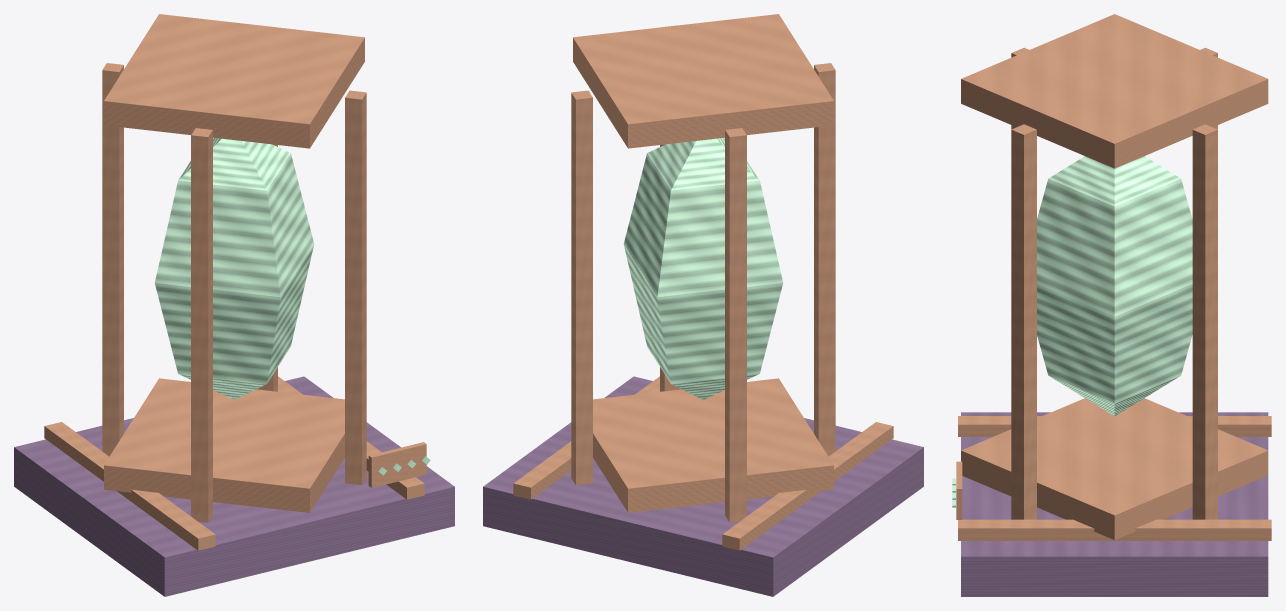
Rendered from atlas100-s083-a01.glb.
3 renders of one model, left to right at view 1: azimuth 30°, elevation 25°; view 2: azimuth 150°, elevation 25°; view 3: azimuth 270°, elevation 25°, orthographic.
Visible parts, largest first — view 1: atlas100-s083-a01:part-000, atlas100-s083-a01:part-013, atlas100-s083-a01:part-004, atlas100-s083-a01:part-003, atlas100-s083-a01:part-005, atlas100-s083-a01:part-007, atlas100-s083-a01:part-009, atlas100-s083-a01:part-001, atlas100-s083-a01:part-014, atlas100-s083-a01:part-002; view 2: atlas100-s083-a01:part-000, atlas100-s083-a01:part-013, atlas100-s083-a01:part-004, atlas100-s083-a01:part-003, atlas100-s083-a01:part-011, atlas100-s083-a01:part-009, atlas100-s083-a01:part-007, atlas100-s083-a01:part-001, atlas100-s083-a01:part-002; view 3: atlas100-s083-a01:part-013, atlas100-s083-a01:part-004, atlas100-s083-a01:part-003, atlas100-s083-a01:part-000, atlas100-s083-a01:part-005, atlas100-s083-a01:part-011, atlas100-s083-a01:part-002, atlas100-s083-a01:part-001.
Part boxes in pixels (left/top/right/bottom): atlas100-s083-a01:part-000: left=14, top=376, right=454, bottom=596; atlas100-s083-a01:part-013: left=154, top=137, right=314, bottom=399; atlas100-s083-a01:part-004: left=104, top=14, right=364, bottom=148; atlas100-s083-a01:part-003: left=104, top=378, right=344, bottom=512; atlas100-s083-a01:part-005: left=345, top=90, right=366, bottom=485; atlas100-s083-a01:part-007: left=191, top=128, right=212, bottom=522; atlas100-s083-a01:part-009: left=102, top=63, right=123, bottom=456; atlas100-s083-a01:part-001: left=44, top=422, right=215, bottom=550; atlas100-s083-a01:part-014: left=368, top=442, right=426, bottom=487; atlas100-s083-a01:part-002: left=278, top=376, right=424, bottom=499; atlas100-s083-a01:part-000: left=483, top=376, right=923, bottom=596; atlas100-s083-a01:part-013: left=623, top=137, right=783, bottom=399; atlas100-s083-a01:part-004: left=573, top=14, right=833, bottom=148; atlas100-s083-a01:part-003: left=593, top=378, right=833, bottom=512; atlas100-s083-a01:part-011: left=571, top=90, right=592, bottom=485; atlas100-s083-a01:part-009: left=725, top=128, right=746, bottom=522; atlas100-s083-a01:part-007: left=814, top=63, right=835, bottom=456; atlas100-s083-a01:part-001: left=722, top=422, right=893, bottom=550; atlas100-s083-a01:part-002: left=513, top=376, right=659, bottom=499; atlas100-s083-a01:part-013: left=1037, top=156, right=1192, bottom=416; atlas100-s083-a01:part-004: left=961, top=14, right=1268, bottom=168; atlas100-s083-a01:part-003: left=961, top=398, right=1268, bottom=539; atlas100-s083-a01:part-000: left=961, top=412, right=1268, bottom=596; atlas100-s083-a01:part-005: left=1011, top=124, right=1036, bottom=519; atlas100-s083-a01:part-011: left=1192, top=124, right=1217, bottom=519; atlas100-s083-a01:part-002: left=958, top=519, right=1271, bottom=540; atlas100-s083-a01:part-001: left=958, top=416, right=1271, bottom=436.
Bounding box in the file's own units: 2 × 2.88 × 1.87.
3 materials, 3 textured.
